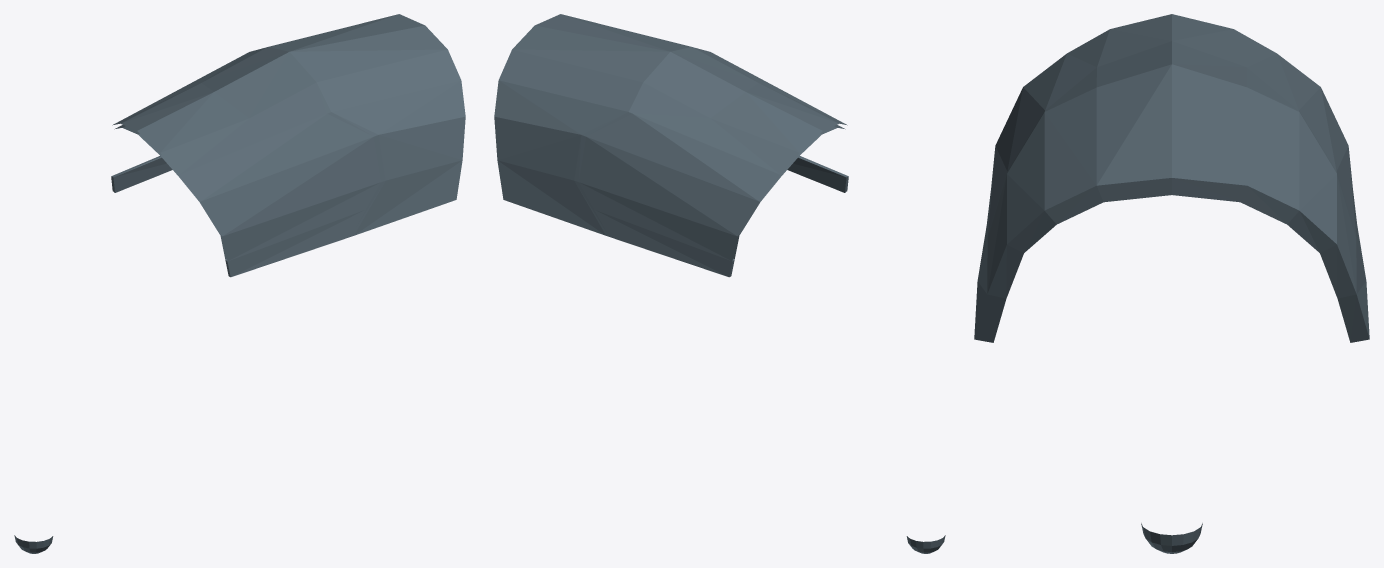
File: u2.glass.glb
The picture shows the model from 3 angles, left to right: view 1: azimuth 30°, elevation 25°; view 2: azimuth 150°, elevation 25°; view 3: azimuth 270°, elevation 25°; orthographic projection. The views are drawn at different scales.
Parts seen in each view (by area): view 1: glass; view 2: glass; view 3: glass.
Boxes of the visible parts, x1,y1,x2,y2 form: glass: (14, 14, 465, 553); glass: (494, 14, 945, 553); glass: (974, 14, 1369, 553).
Bounding box in the file's own units: 1.65 × 1.69 × 0.8878.
